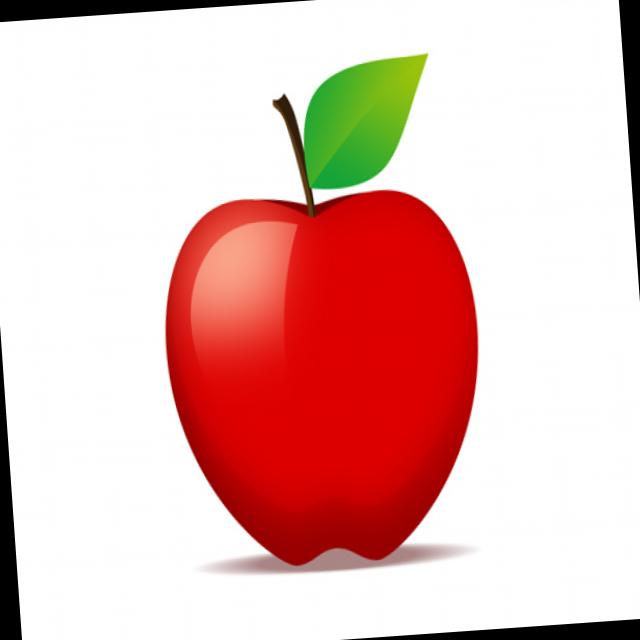apple: (142, 178, 509, 584)
